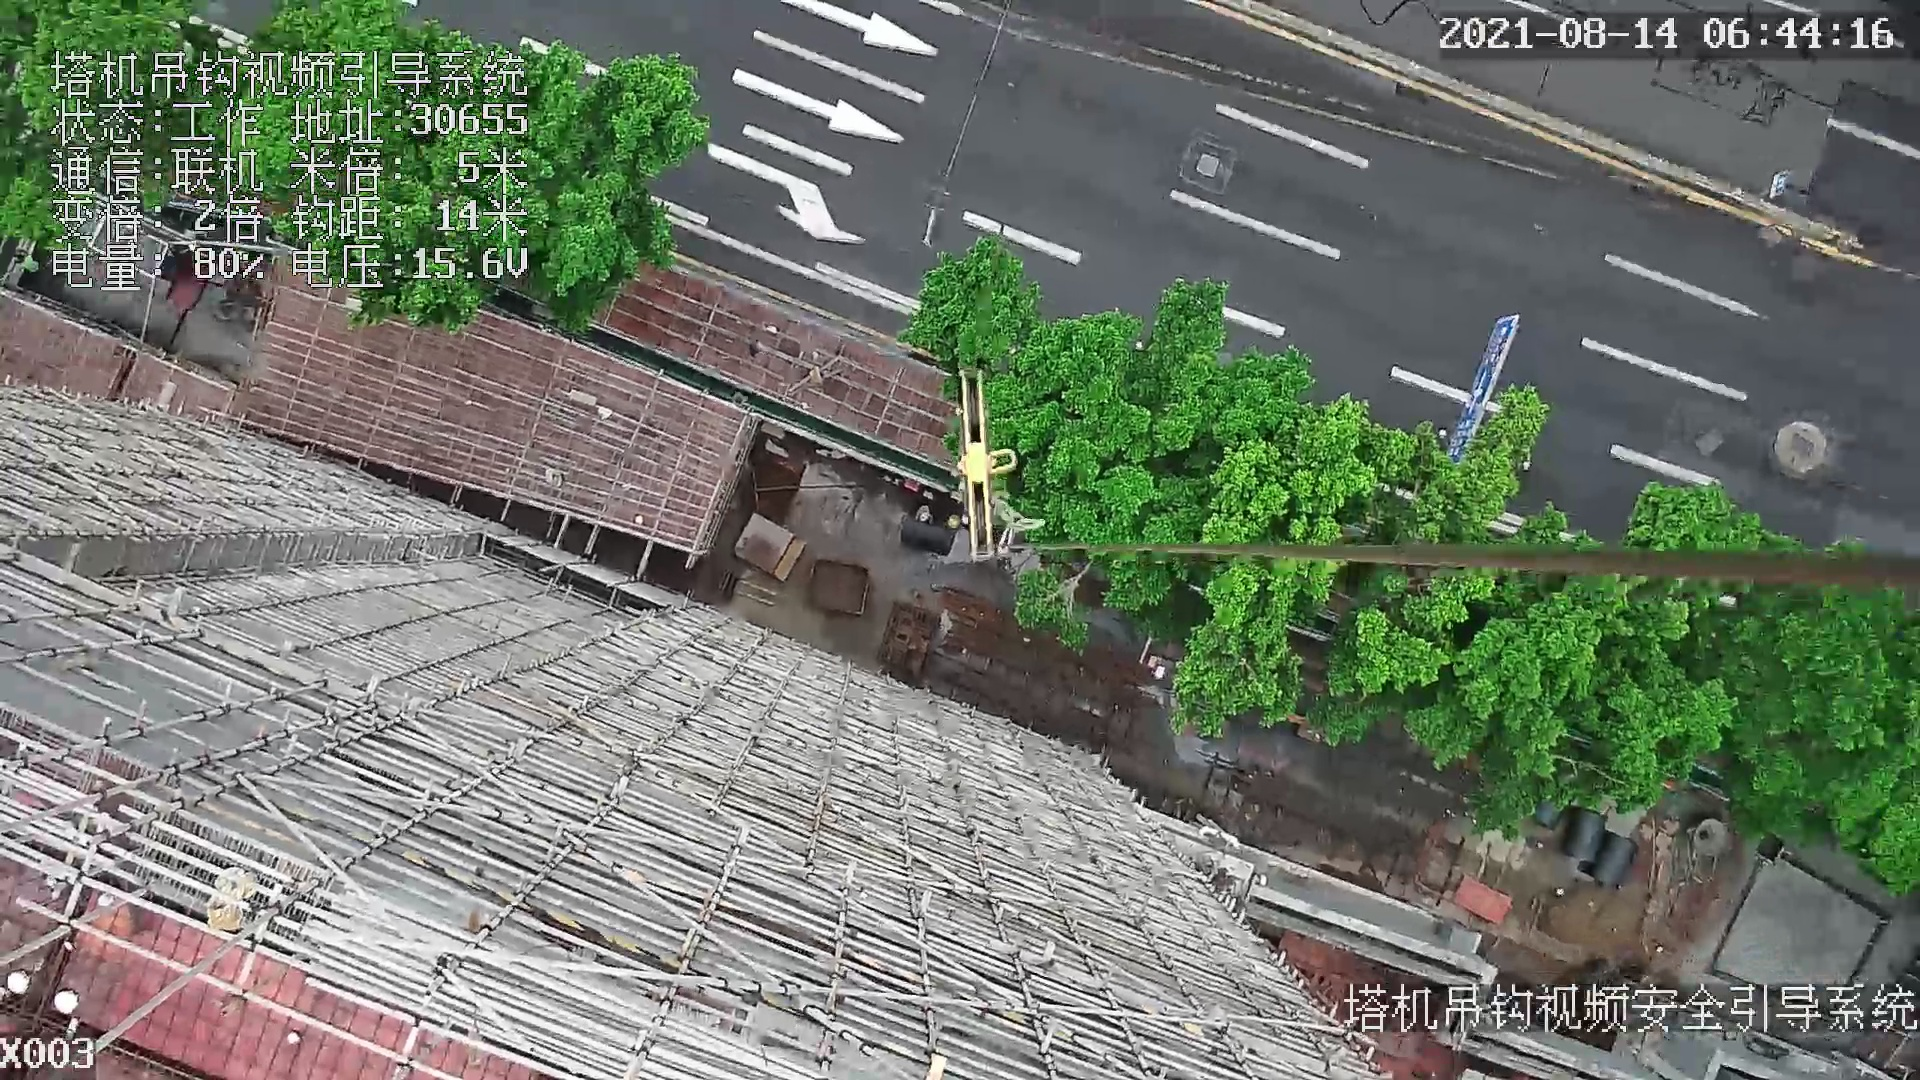hook: (942, 368, 1017, 567)
